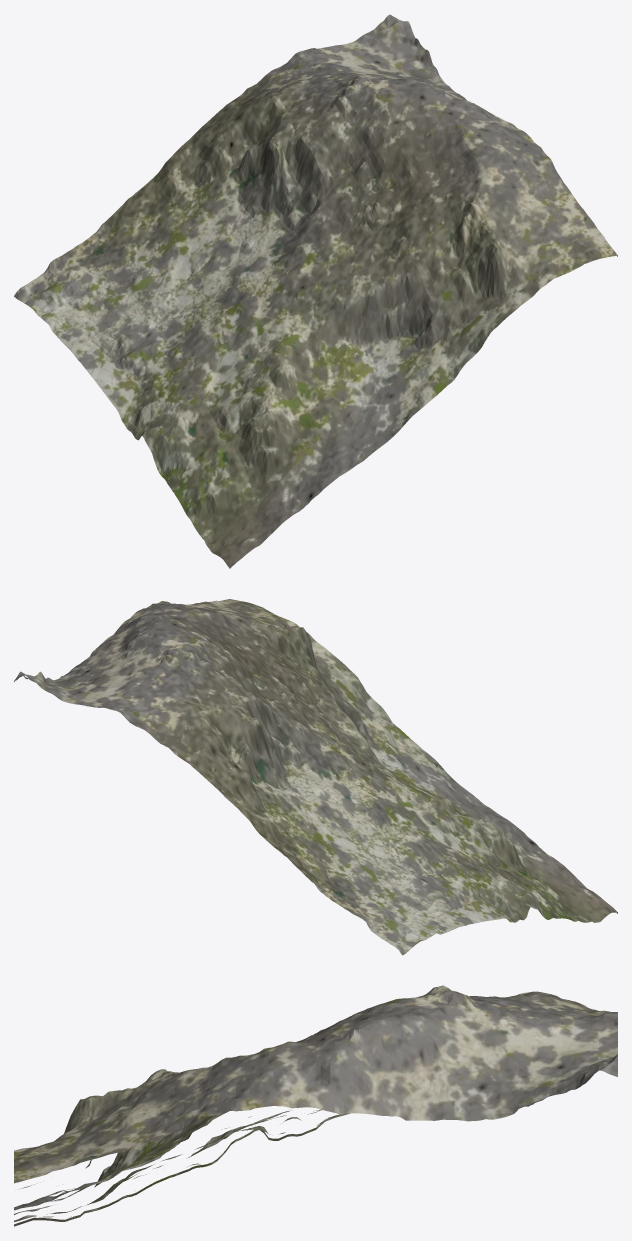
3 views of the same model, one above another, from view 1: azimuth 30°, elevation 25°; view 2: azimuth 150°, elevation 25°; view 3: azimuth 270°, elevation 25° (orthographic). The views are drawn at different scales.
Size of the model in its own units: 250 by 189 by 241.
Materials: 1 (1 with a texture image).
